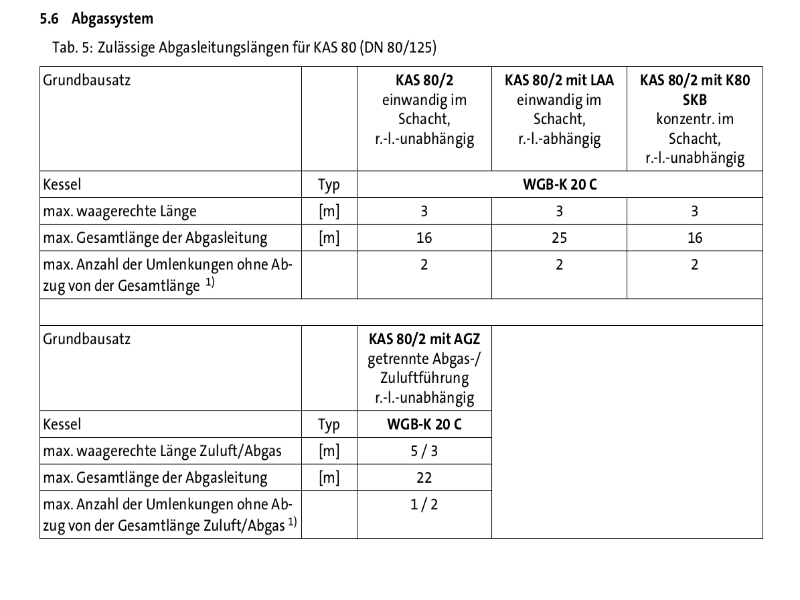border: (32, 61, 772, 545)
cell: (632, 69, 761, 168), (497, 70, 623, 158), (368, 69, 487, 157), (41, 496, 298, 535), (362, 330, 486, 407), (41, 256, 293, 293), (41, 467, 288, 488), (41, 441, 287, 462), (41, 227, 276, 248), (41, 202, 211, 221), (361, 414, 488, 434), (41, 330, 151, 353), (370, 495, 484, 516), (507, 173, 616, 194), (42, 71, 143, 93), (371, 441, 480, 461), (370, 467, 484, 486), (41, 174, 105, 195), (397, 199, 456, 221), (41, 414, 107, 433), (395, 255, 458, 274), (397, 228, 458, 245), (306, 173, 353, 194), (536, 227, 583, 247), (535, 254, 584, 273), (304, 228, 352, 247), (538, 200, 580, 221), (305, 202, 353, 220), (308, 414, 351, 434), (308, 467, 351, 487), (308, 441, 350, 461), (675, 255, 716, 274), (677, 200, 711, 221), (677, 228, 713, 246)
